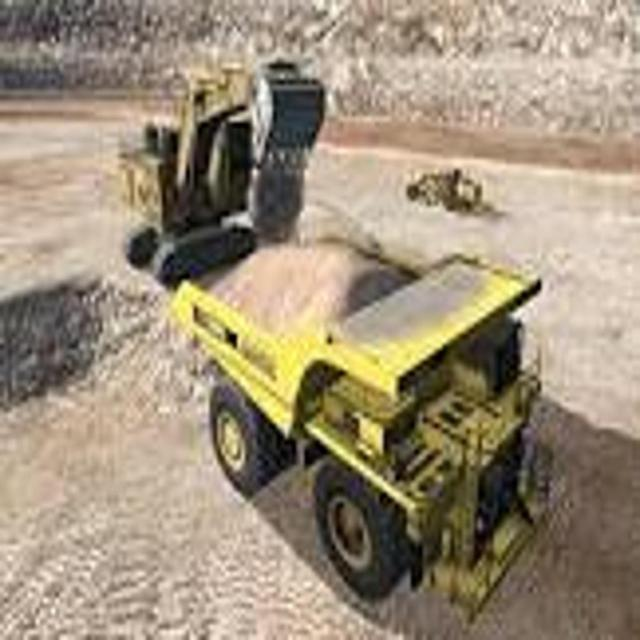dump_truck: (169, 224, 559, 610)
